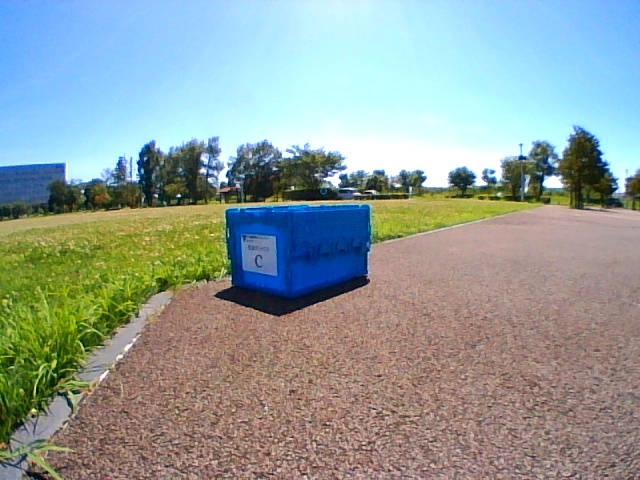blue_box: (225, 205, 371, 298)
tag_c: (244, 236, 275, 273)
